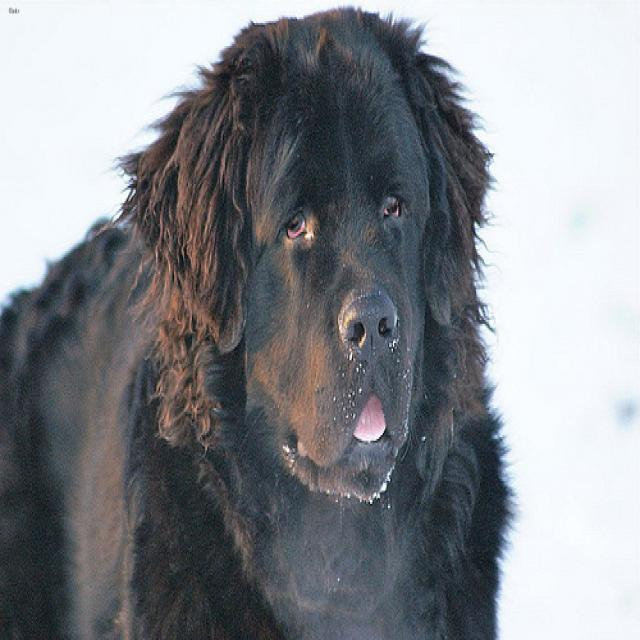dog-newfoundland: (1, 2, 518, 636)
